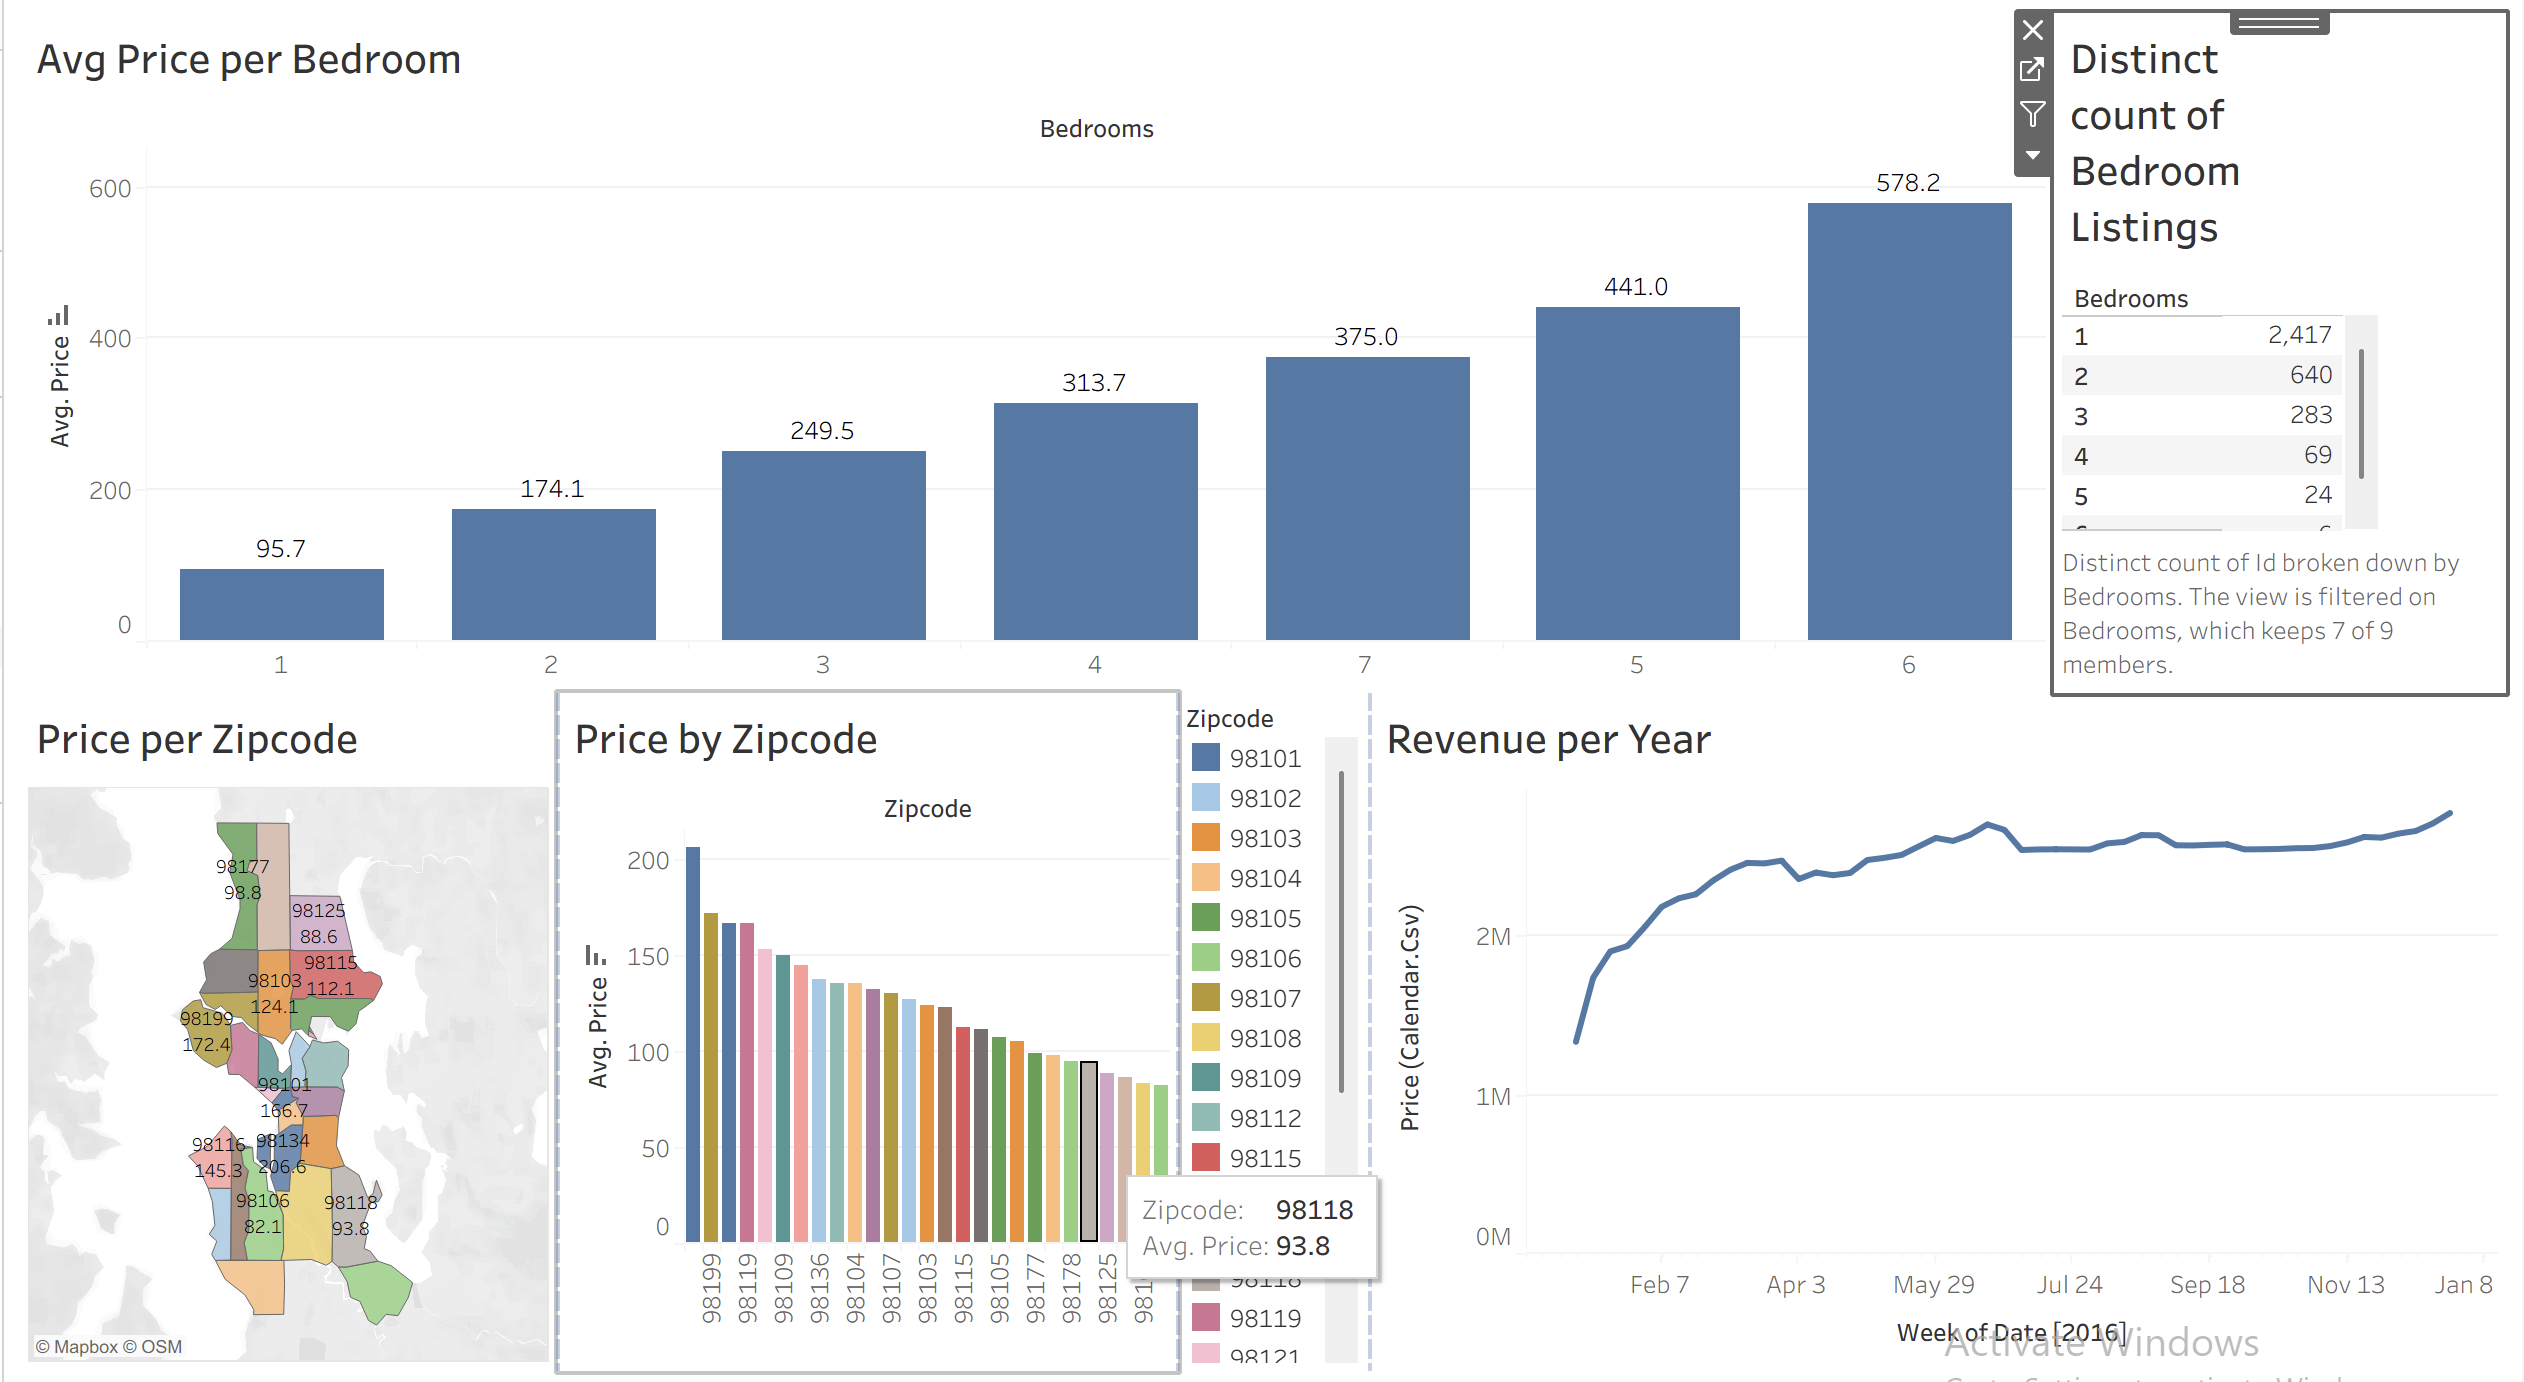

The dashboard page shown, as its layout file describes it:
{"tool":"tableau","page":{"name":"Dashboard 1","canvas":[1000,1000],"units":"permille","ordinal":0},"visuals":[{"type":"worksheet","title":"Sheet 4","mark":"Automatic","rows":["price"],"cols":["bedrooms"],"box":[6.4,11.5,807.8,488.5]},{"type":"worksheet","title":"Sheet 5","mark":"Automatic","rows":["bedrooms"],"box":[814.1,11.5,179.5,488.5]},{"type":"worksheet","title":"Sheet 2","mark":"Multipolygon","box":[6.4,500,213.7,488.5]},{"type":"worksheet","title":"Sheet 1","mark":"Automatic","rows":["price"],"cols":["zipcode"],"box":[220,500,246.2,488.5]},{"type":"legend","title":"Sheet 1","param":"[federated.1i2h0mo0j0mlci16dccnf0zkq92h].[none:zipcode:ok]","box":[466.2,500,76.2,488.5]},{"type":"worksheet","title":"Sheet 3","mark":"Automatic","rows":["price (calendar.csv)"],"cols":["date"],"box":[542.5,500,451.2,488.5]}]}

Visuals, with their boxes on the dashboard's canvas, which has no fixed pixel size, in thousandths of its width and height (x1, y1, x2, y2). These are canvas units, not pixel positions in the 2524x1382 screenshot, which may show the page scaled, cropped or inside an application window:
"Sheet 4" worksheet: x1=6, y1=12, x2=814, y2=500
"Sheet 5" worksheet: x1=814, y1=12, x2=994, y2=500
"Sheet 2" worksheet (Multipolygon marks): x1=6, y1=500, x2=220, y2=988
"Sheet 1" worksheet: x1=220, y1=500, x2=466, y2=988
"Sheet 1" legend: x1=466, y1=500, x2=542, y2=988
"Sheet 3" worksheet: x1=542, y1=500, x2=994, y2=988
